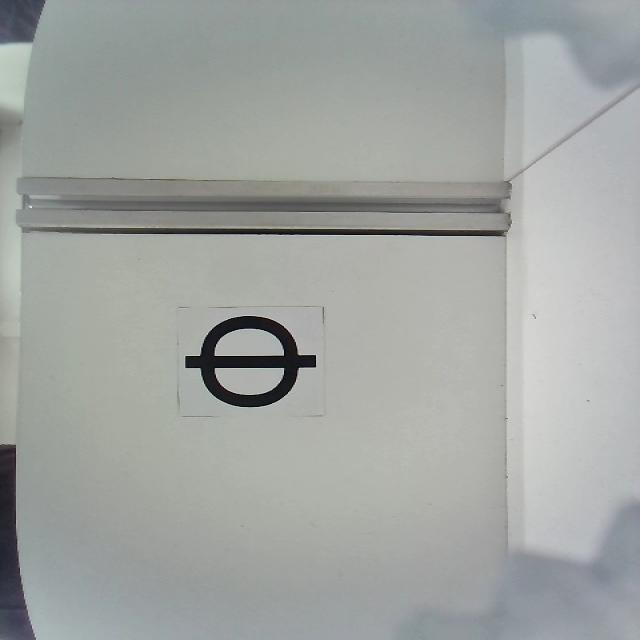F: (186, 314, 318, 408)
